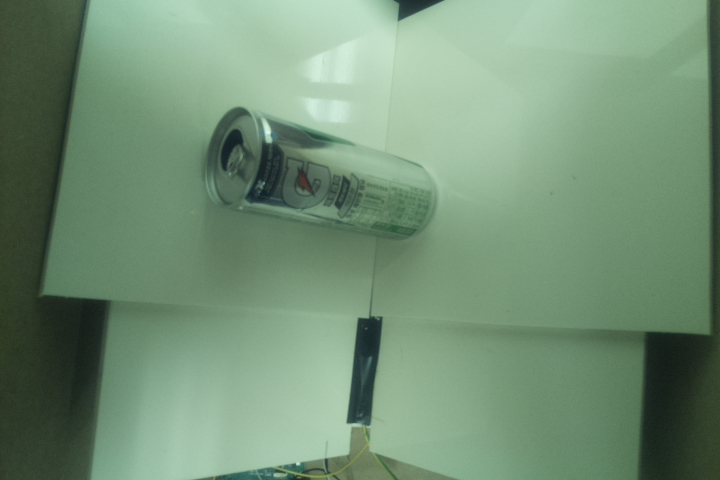can: (200, 104, 443, 242)
